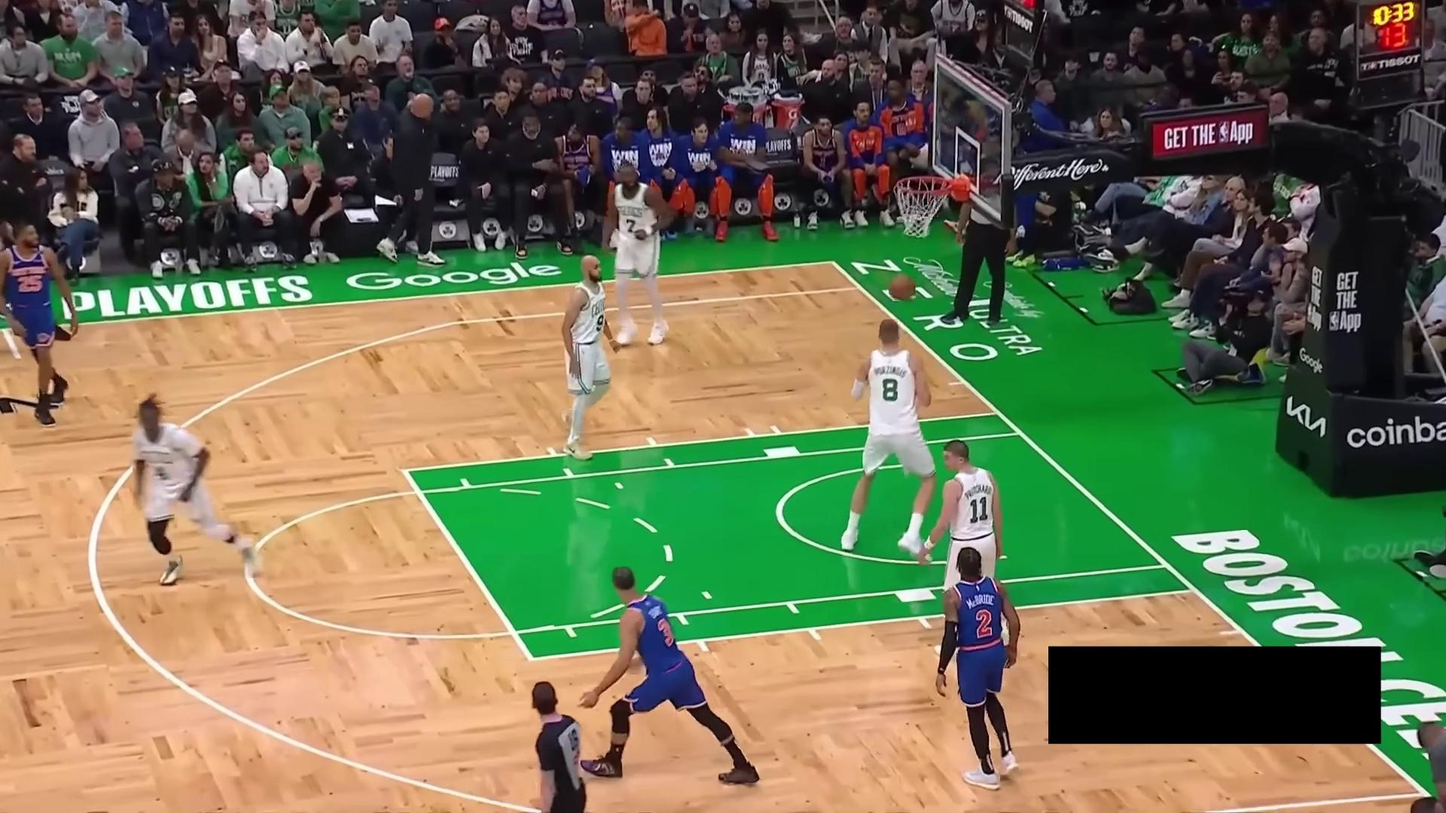ball: (889, 273, 917, 301)
number: (656, 617, 675, 648), (977, 608, 995, 637), (969, 495, 987, 523), (881, 378, 900, 404), (18, 274, 44, 292), (595, 313, 604, 333), (625, 218, 636, 234)
player: (577, 565, 759, 786), (129, 392, 264, 589), (839, 316, 938, 564), (935, 547, 1020, 791), (924, 440, 1006, 642), (0, 218, 78, 426), (607, 161, 674, 347), (561, 252, 618, 461)
referee: (945, 182, 1019, 327), (530, 680, 589, 813)
rim: (895, 175, 951, 195)
